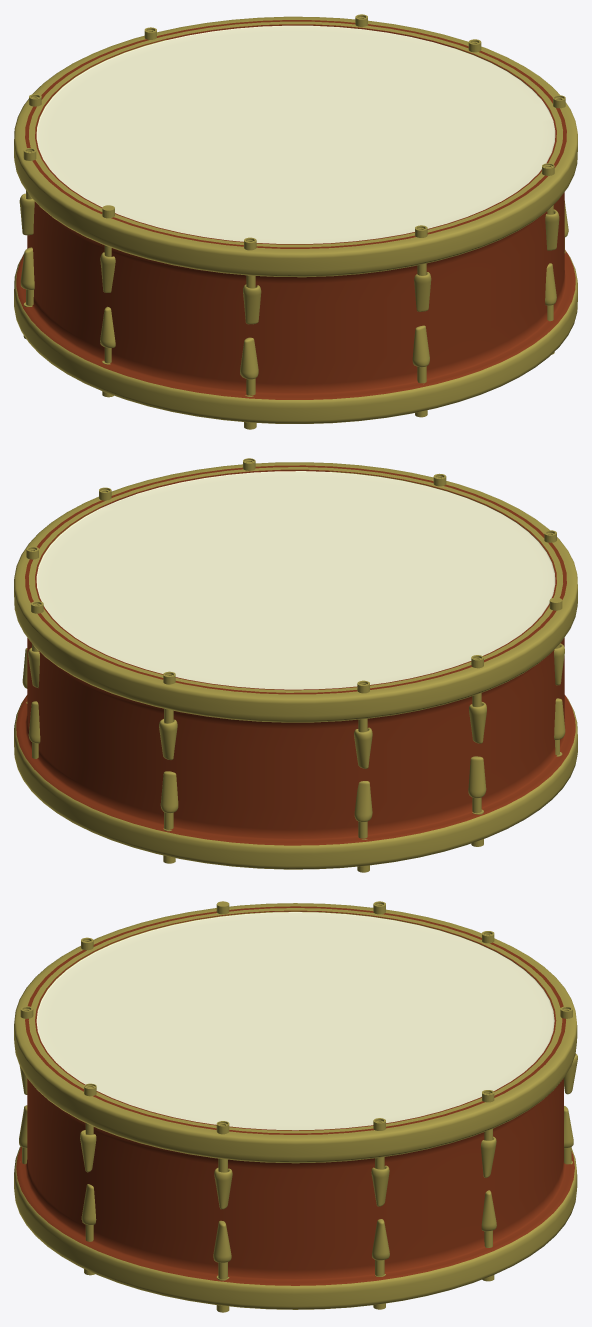
File: DrumBase.fbx
3 renders of one model, top to bottom at view 1: azimuth 30°, elevation 25°; view 2: azimuth 150°, elevation 25°; view 3: azimuth 270°, elevation 25°, orthographic.
Parts seen in each view (by area): view 1: Cylinder, Plane.019, Plane.007, Plane.018, Plane.008; view 2: Cylinder, Plane.012, Plane.020, Plane.013, Plane.004, Plane.010, Plane.005; view 3: Cylinder, Plane.016, Plane.015, Plane.001, Plane.002.
Boxes of the visible parts, <box> form: Cylinder: <box>14,16,577,423</box>; Plane.019: <box>240,337,258,379</box>; Plane.007: <box>243,284,261,324</box>; Plane.018: <box>412,325,429,367</box>; Plane.008: <box>414,272,431,311</box>; Cylinder: <box>14,462,577,869</box>; Plane.012: <box>468,756,486,798</box>; Plane.020: <box>160,771,178,813</box>; Plane.013: <box>354,781,372,821</box>; Plane.004: <box>354,727,372,768</box>; Plane.010: <box>159,719,177,759</box>; Plane.005: <box>469,702,486,743</box>; Cylinder: <box>14,903,577,1309</box>; Plane.016: <box>213,1220,231,1262</box>; Plane.015: <box>372,1219,389,1260</box>; Plane.001: <box>214,1168,232,1209</box>; Plane.002: <box>371,1165,389,1206</box>.
Bounding box in the file's own units: 298 × 109 × 298.
